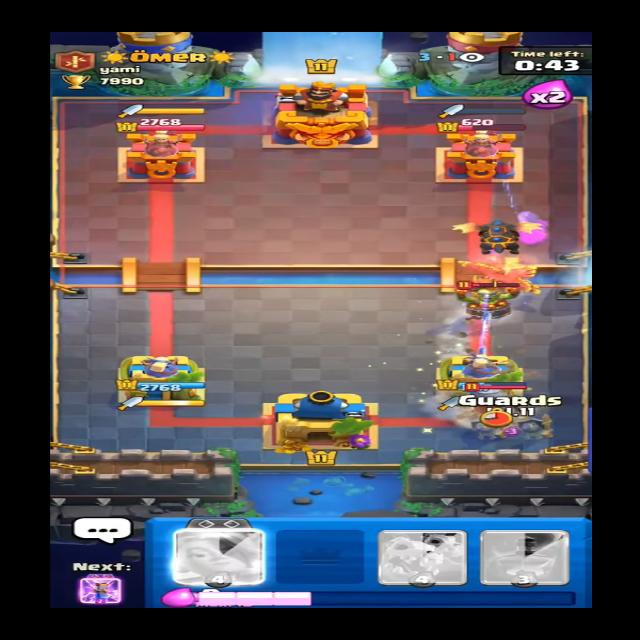goblin-demolisher: (450, 280, 530, 322)
goblin-drill: (463, 381, 531, 423)
